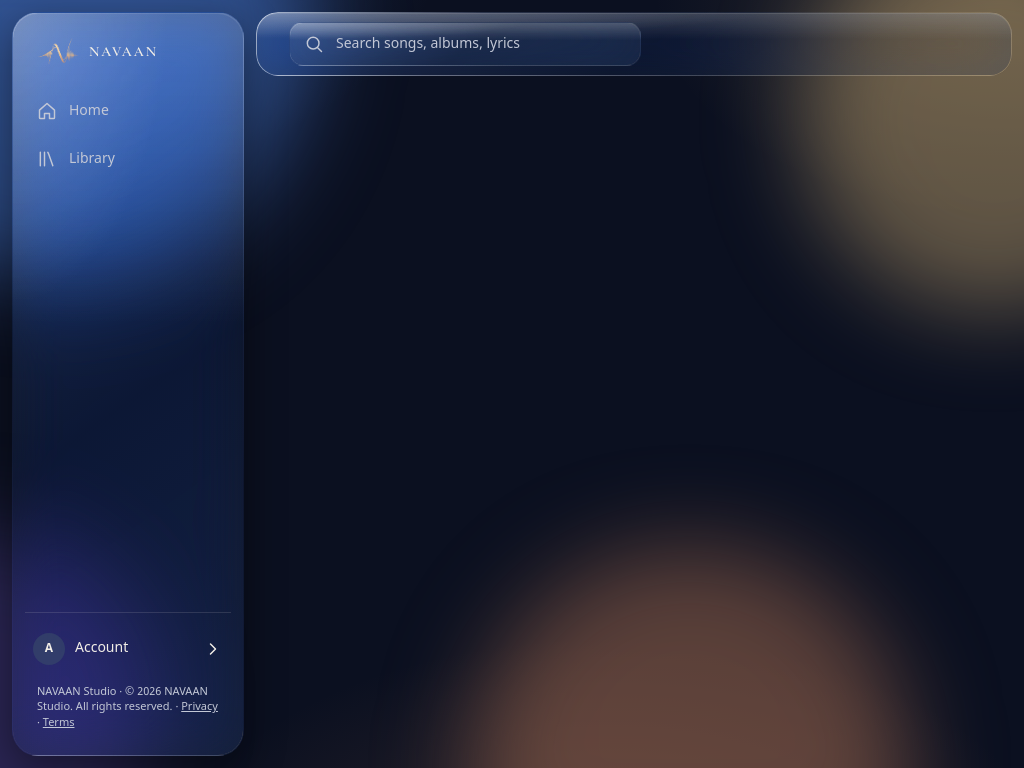
search › the top bar search goes to the results page with what was typed
Type "tere hone se" into the search field labelled "Search songs, albums, lyrics" at (480, 44), box [334,23,626,65]
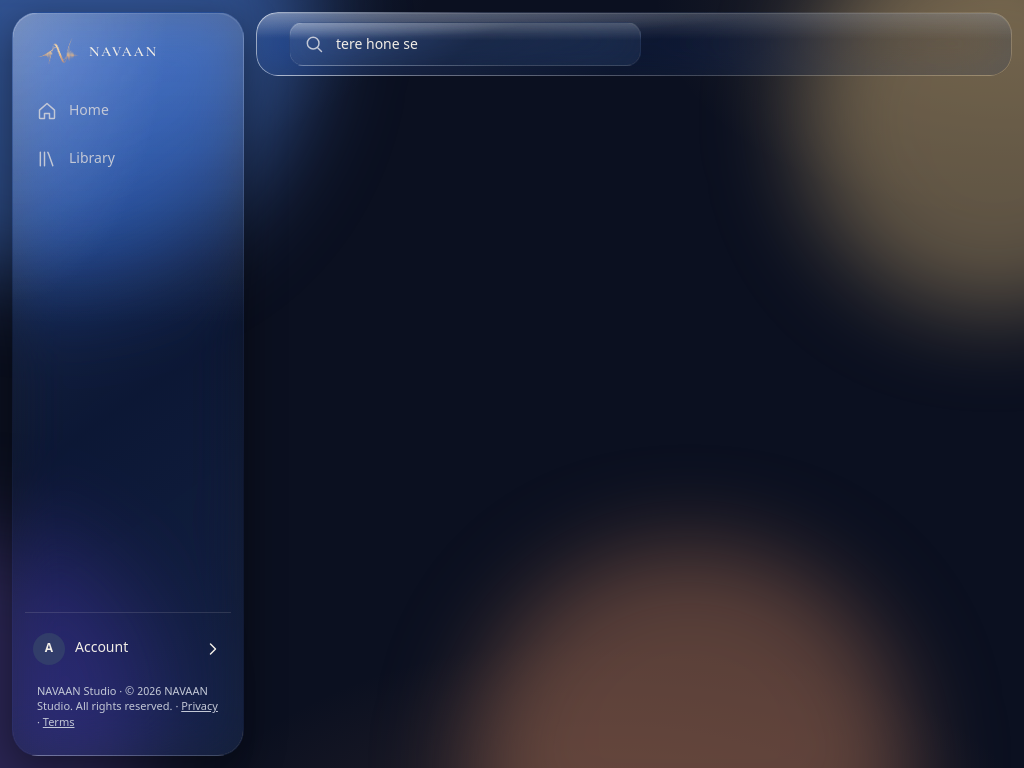
Submit the form named "Search songs, albums, lyrics", box [289,22,641,66]
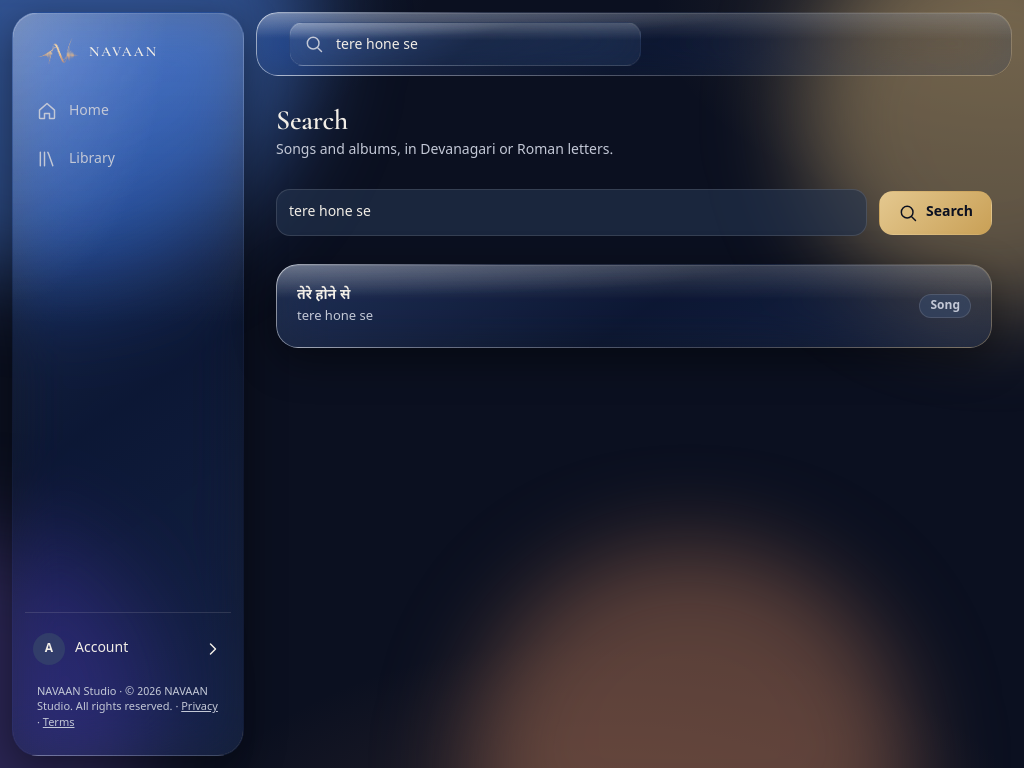
Result: the link "तेरे होने से tere hone se Song" is shown at [297,286,971,325]
